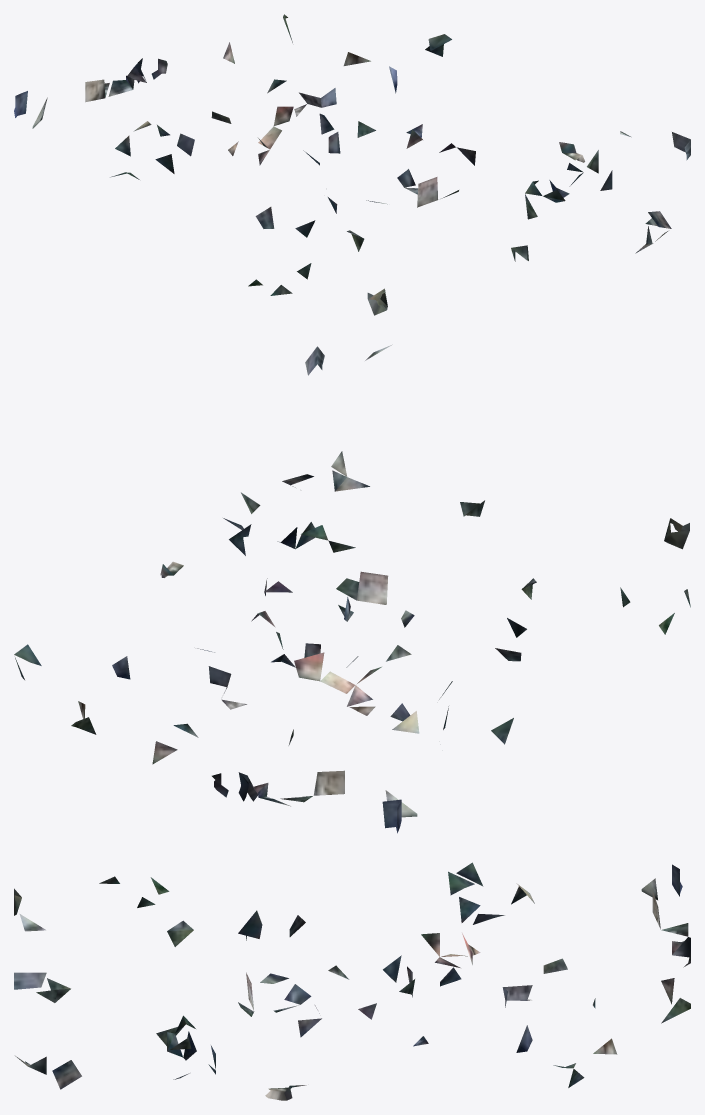
3 views of the same model, one above another, from view 1: azimuth 30°, elevation 25°; view 2: azimuth 150°, elevation 25°; view 3: azimuth 270°, elevation 25° (orthographic). The views are drawn at different scales.
Parts seen in each view (by area): view 1: 304362727043617146_1; view 2: 304362727043617146_1; view 3: 304362727043617146_1.
Boxes of the visible parts, box(x1,y1,x2,y2) form: 304362727043617146_1: box(14, 14, 690, 315); 304362727043617146_1: box(14, 344, 690, 833); 304362727043617146_1: box(14, 862, 690, 1100).
Bounding box in the file's own units: 109 × 36.35 × 153.
Materials: 1 (1 with a texture image).
